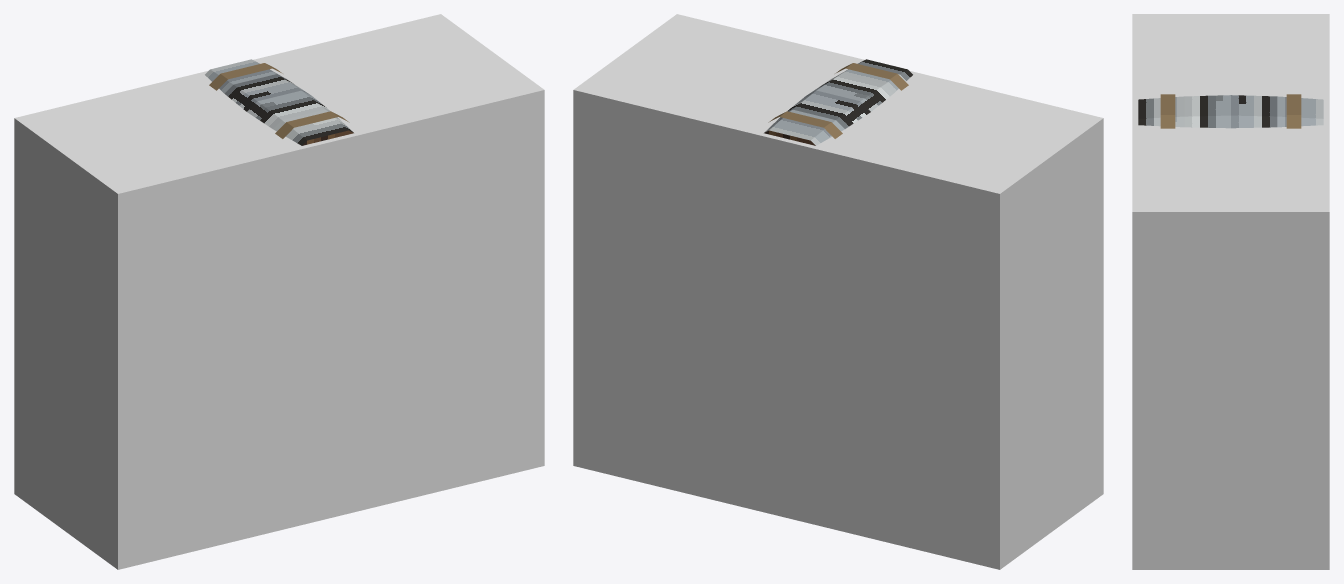
File: JP_Prop_SakeBarrelStack_A.glb
The picture shows the model from 3 angles, left to right: view 1: azimuth 30°, elevation 25°; view 2: azimuth 150°, elevation 25°; view 3: azimuth 270°, elevation 25°; orthographic projection. The views are drawn at different scales.
Visible parts, largest first — view 1: COL_JP_Prop_SakeBarrelStack_A, JP_Prop_SakeBarrelStack_A; view 2: COL_JP_Prop_SakeBarrelStack_A, JP_Prop_SakeBarrelStack_A; view 3: COL_JP_Prop_SakeBarrelStack_A, JP_Prop_SakeBarrelStack_A.
Boxes of the visible parts, box(x1,y1,x2,y2) form: COL_JP_Prop_SakeBarrelStack_A: box(14, 14, 544, 569); JP_Prop_SakeBarrelStack_A: box(205, 59, 353, 145); COL_JP_Prop_SakeBarrelStack_A: box(573, 14, 1103, 569); JP_Prop_SakeBarrelStack_A: box(764, 59, 912, 145); COL_JP_Prop_SakeBarrelStack_A: box(1132, 14, 1329, 569); JP_Prop_SakeBarrelStack_A: box(1138, 94, 1323, 128).
Size of the model in its own units: 1.9 by 1.64 by 0.8.
Materials: 3 (3 with a texture image).
